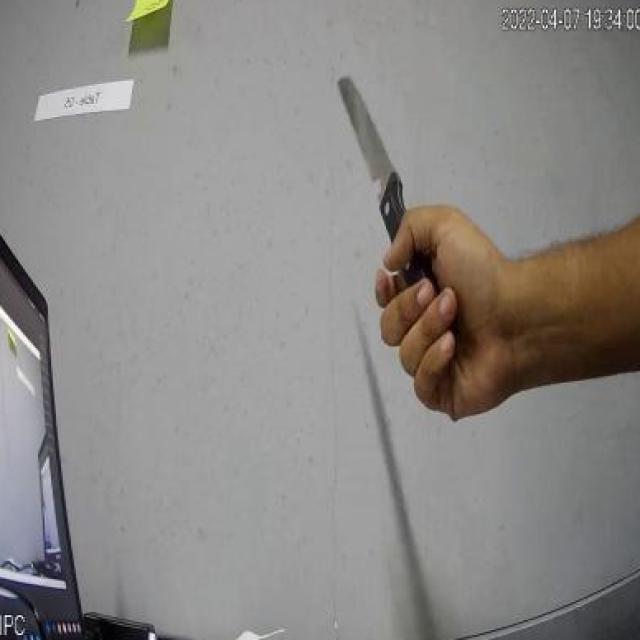Knife: (327, 64, 466, 338)
